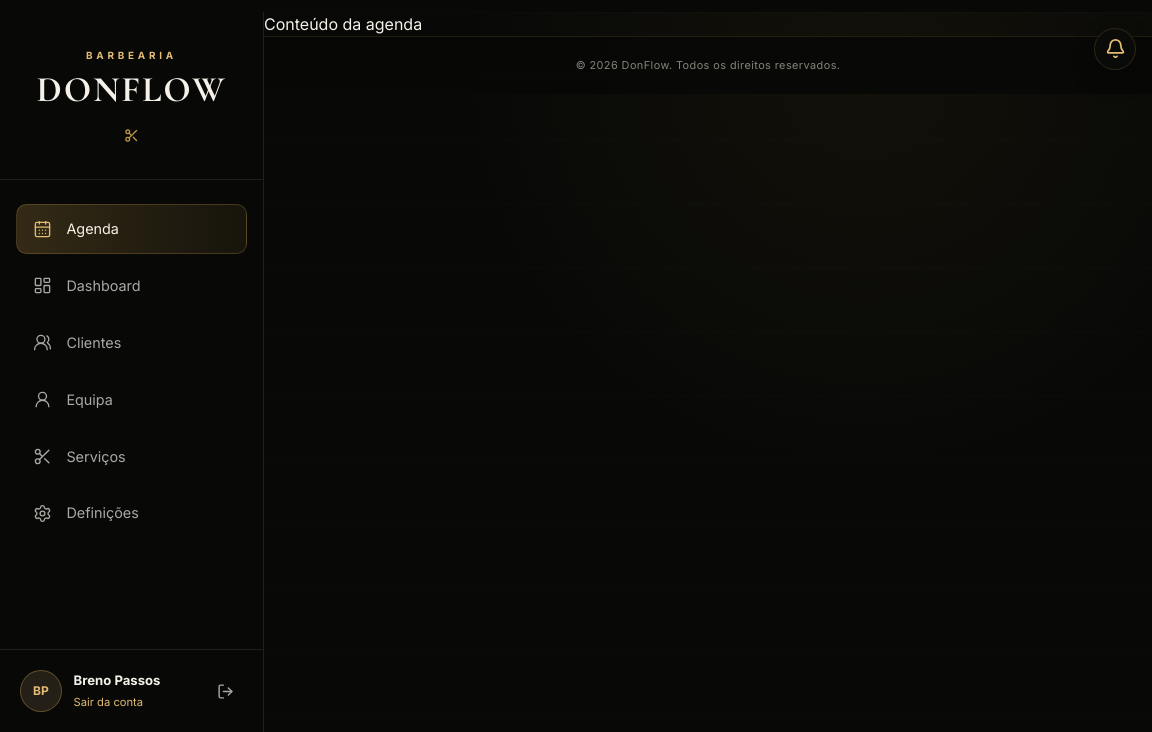
Scenario: StaffLayout › opens the notifications panel from the desktop page header
Click the button named "Notificações". click: {"x": 1115, "y": 49}
box: [1094,28,1136,70]
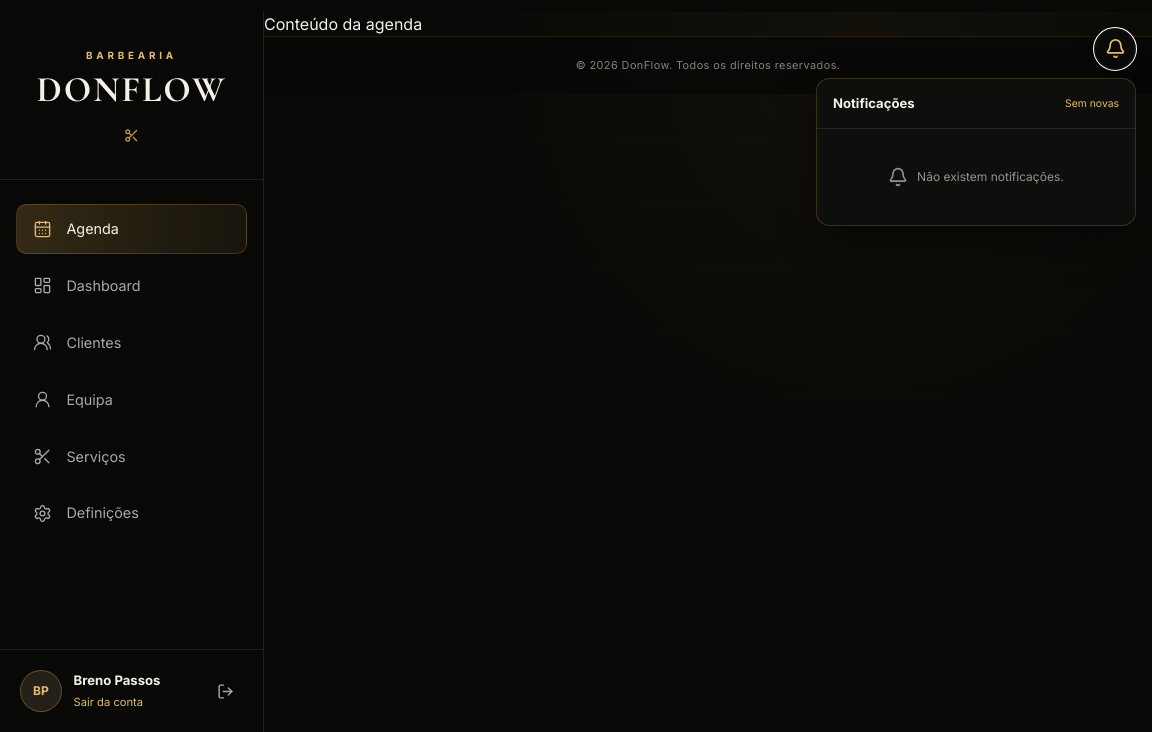
Result: the element with id "desktop-staff-notifications" is shown at [816,78,1136,226]
Press the mouse on the element that starts with "Barbearia" at {"x": 576, "y": 372}, box [0,12,1151,731]
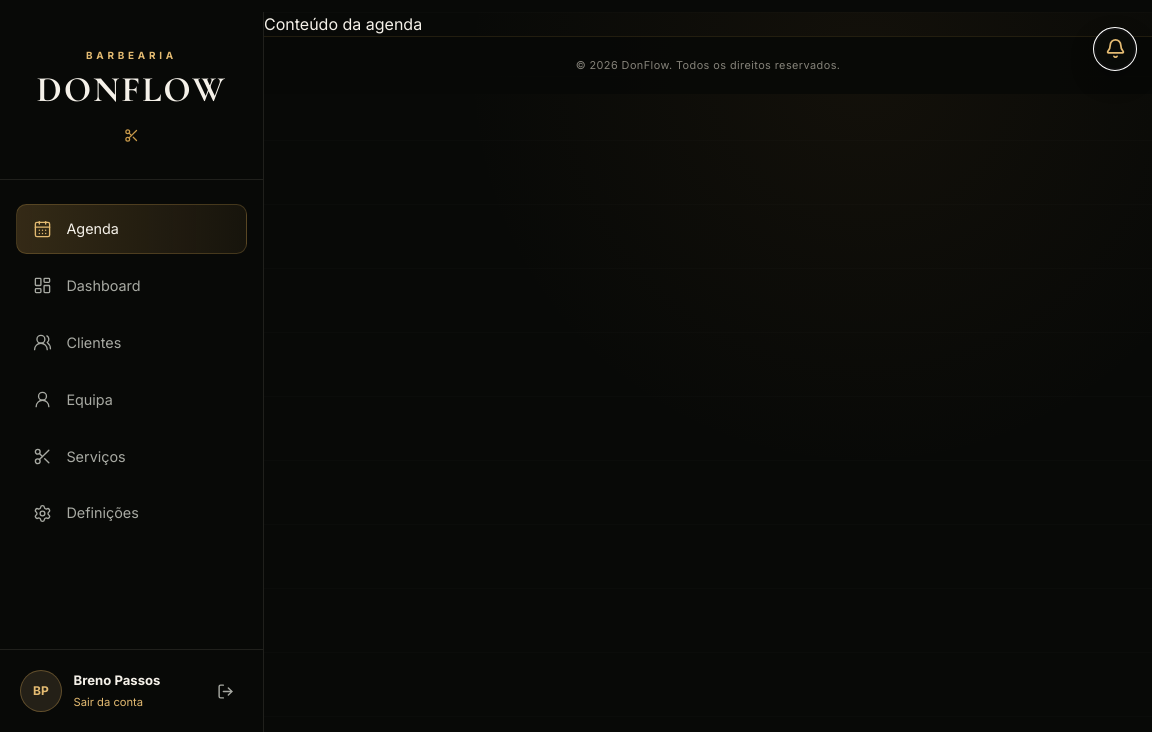
Result: the element with id "desktop-staff-notifications" is gone
